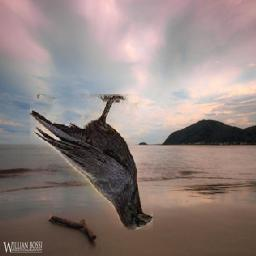Crow: (31, 94, 154, 230)
